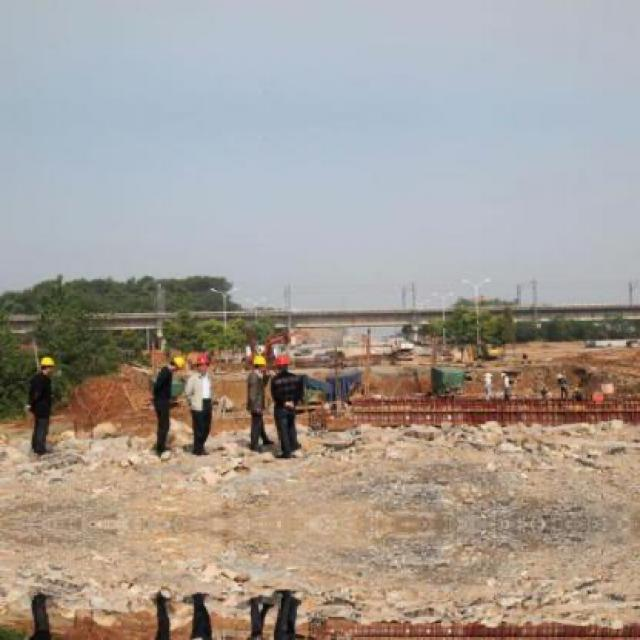helmet: (272, 350, 294, 375), (38, 354, 58, 379), (196, 352, 216, 374), (250, 352, 268, 373), (168, 356, 186, 373)
